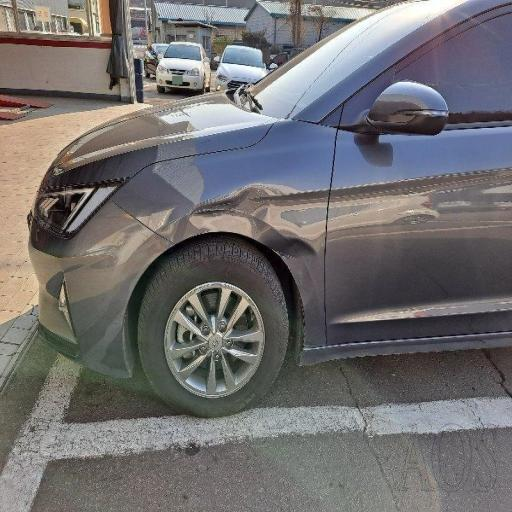dent: (177, 160, 324, 269)
